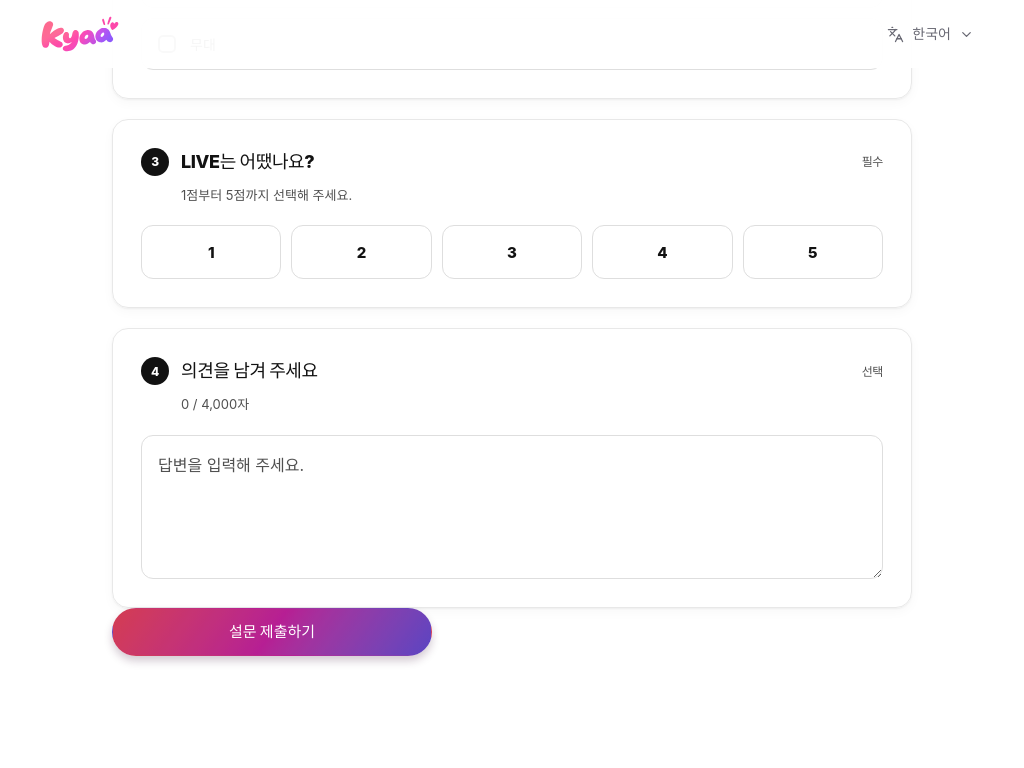
LiveSurveyScreen › QA-SURV-003 announces required errors inline and focuses the first invalid question
(page scrolled)
Step 1. Click the button "설문 제출하기" → click(272, 632), box [112, 608, 432, 656]
(page scrolled)
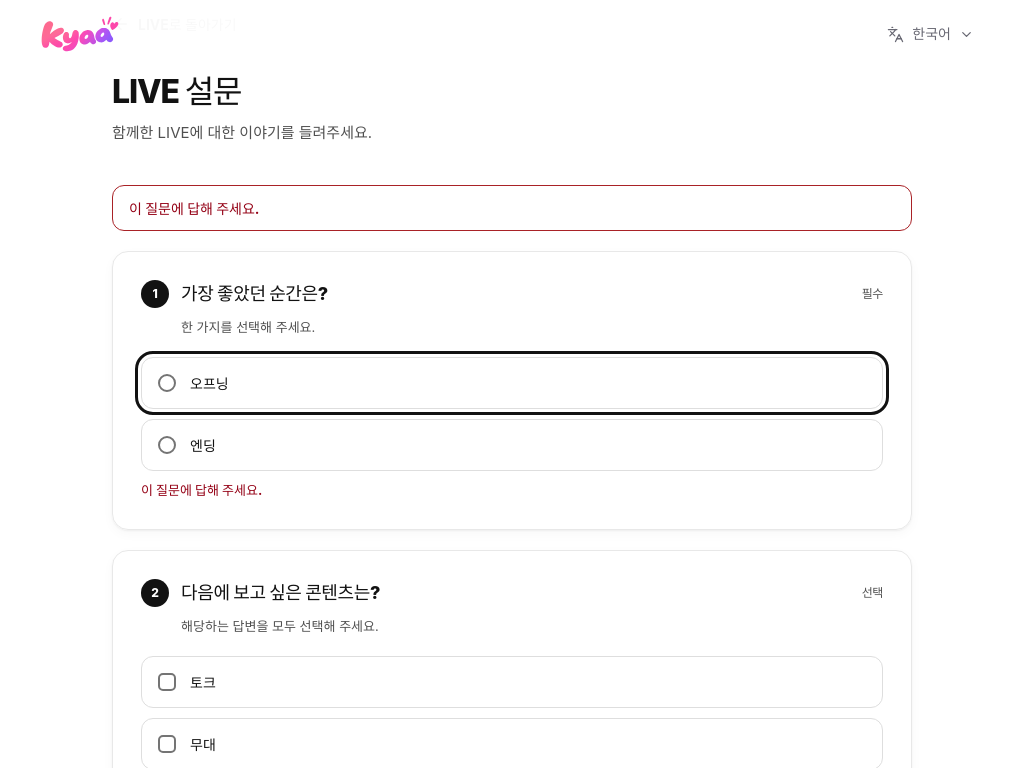
Now the text "이 질문에 답해 주세요." is shown 3 times
